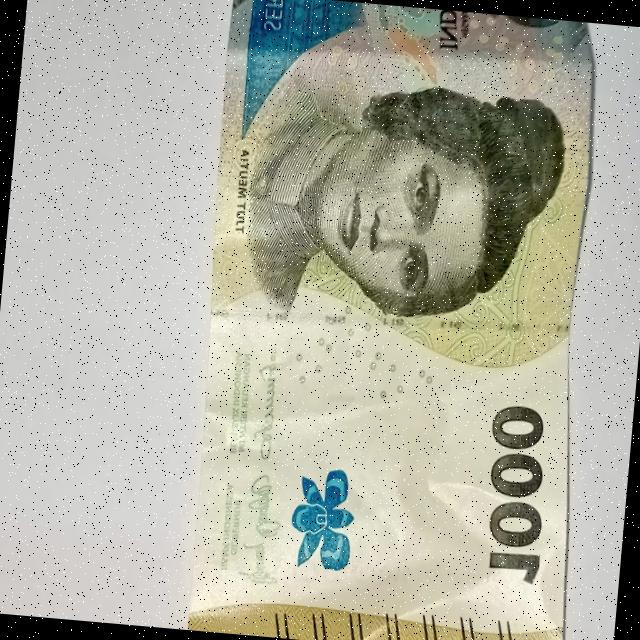1K: (164, 0, 621, 640)
